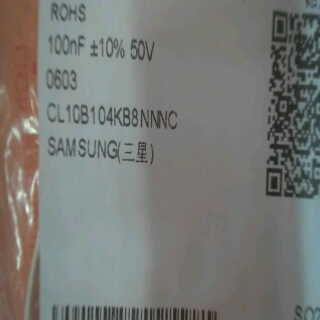100nF: (39, 29, 93, 66)
